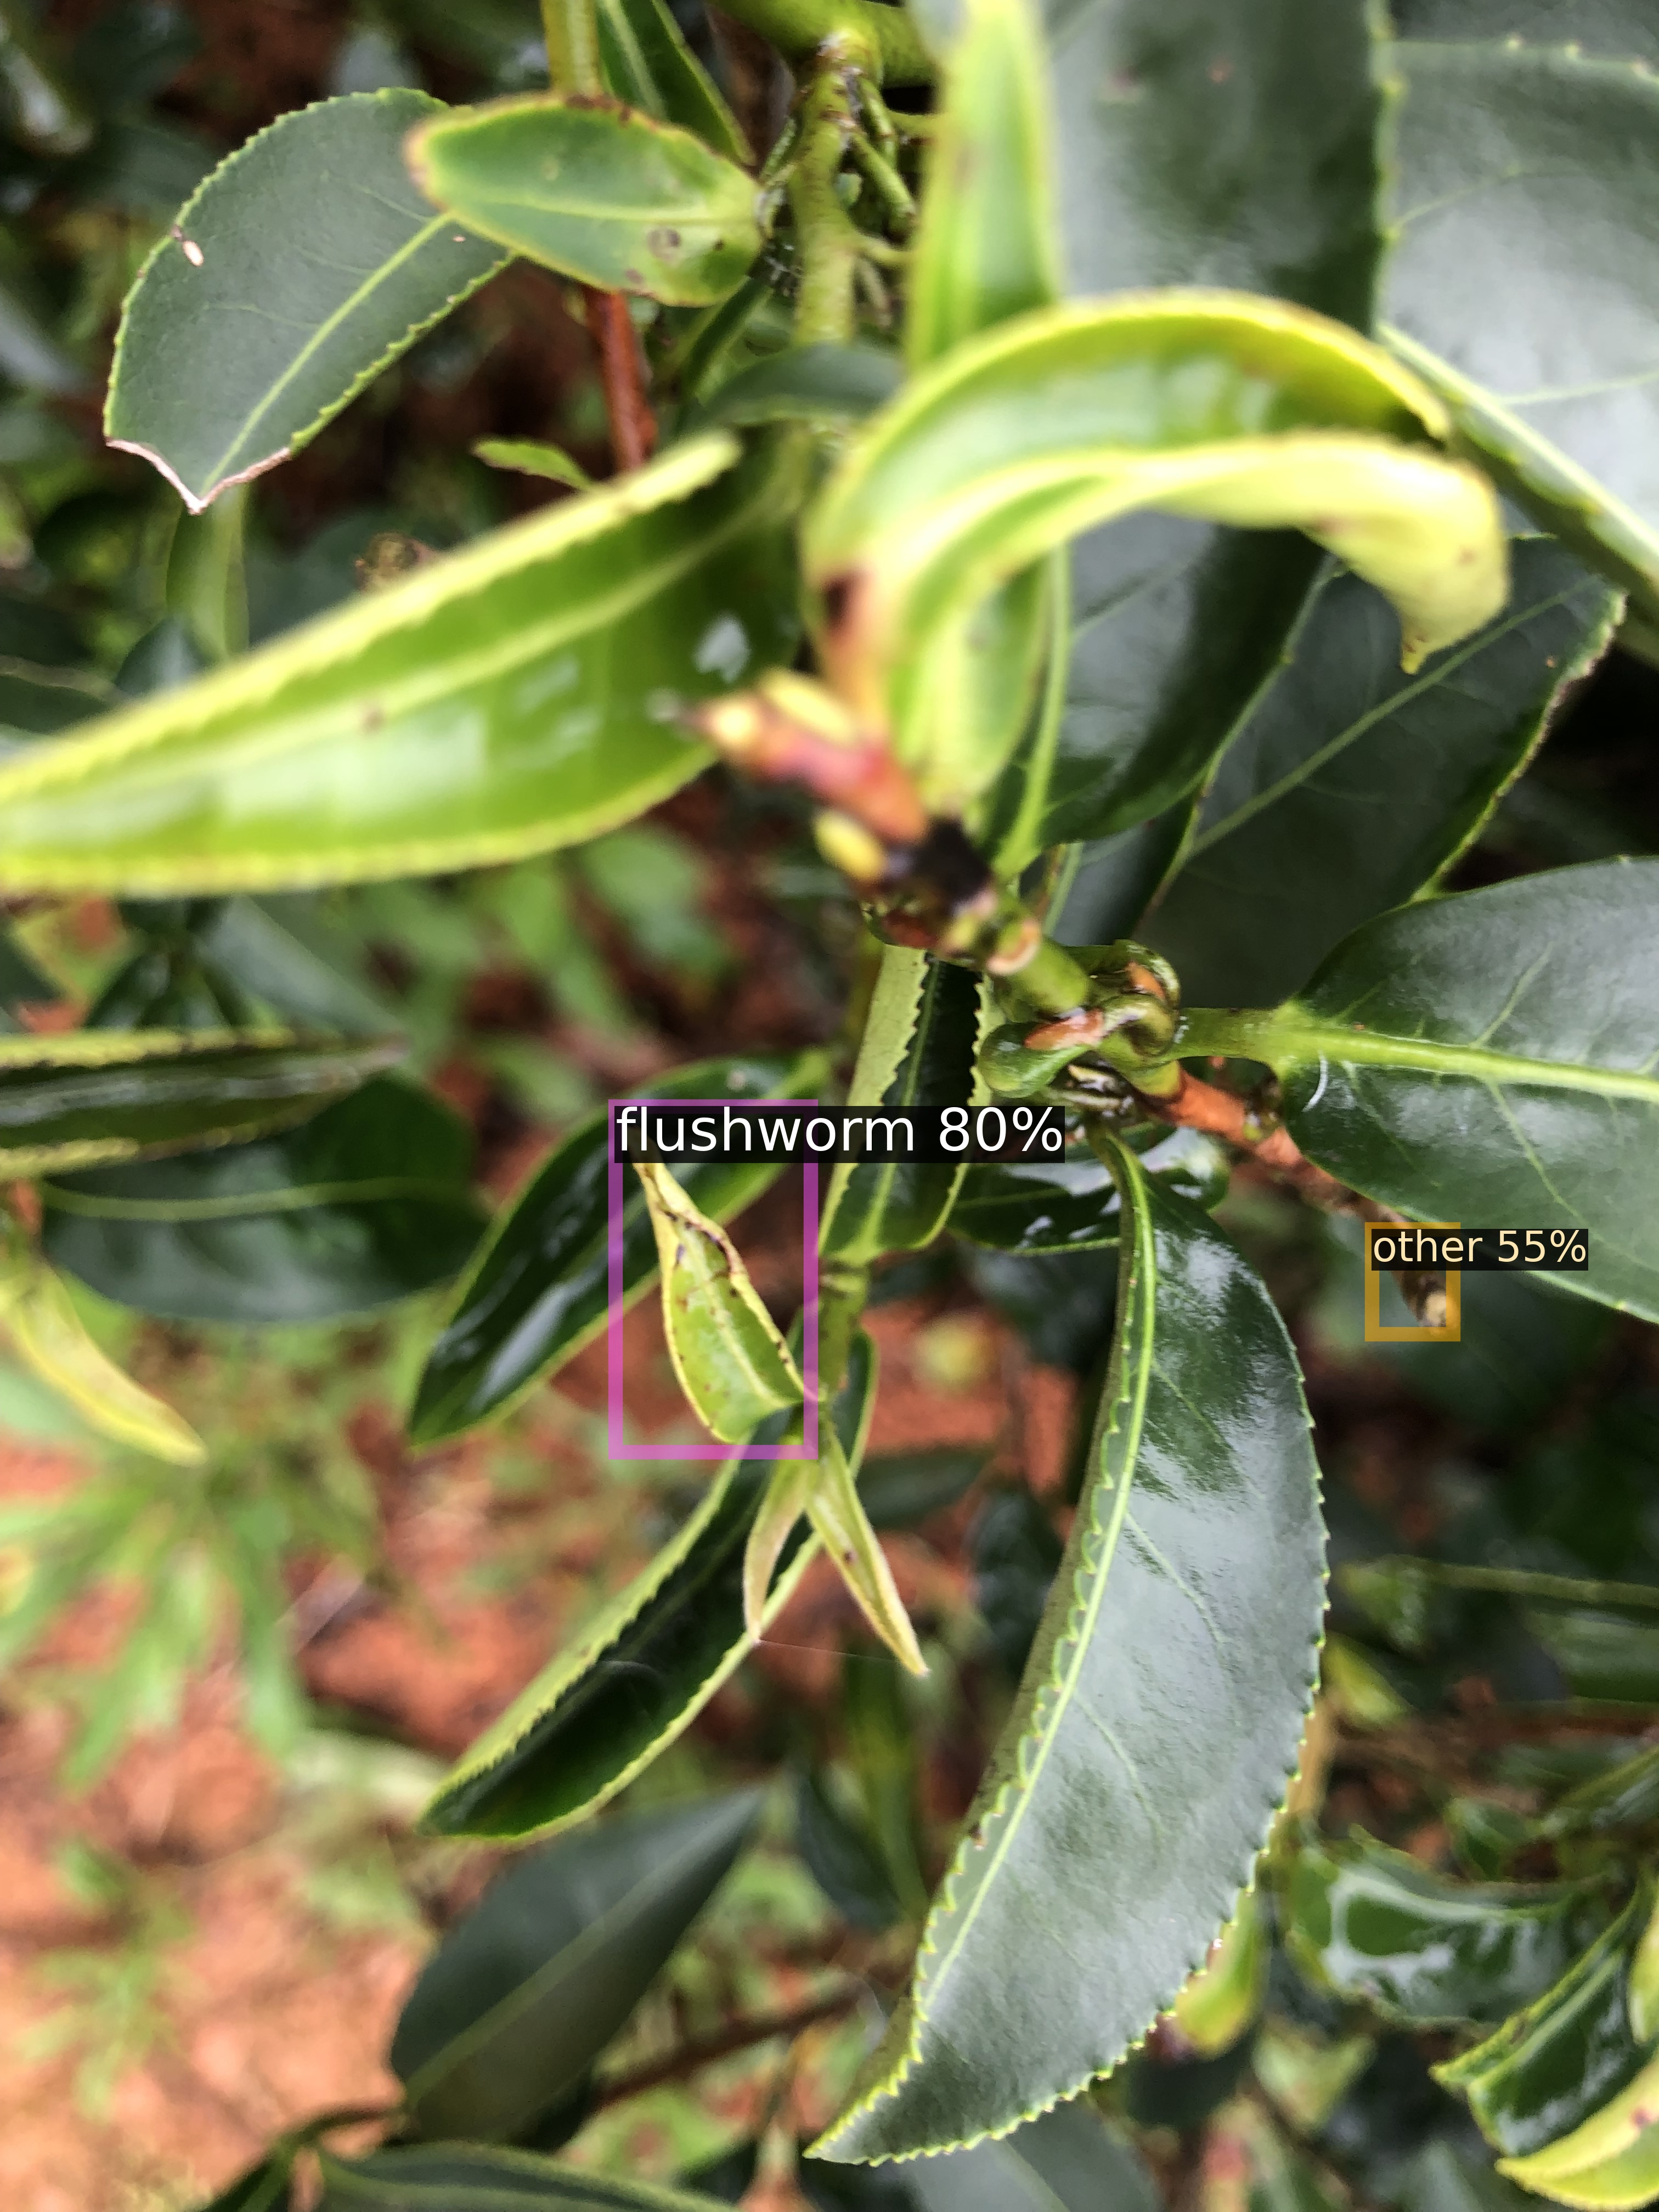flushworm: (615, 1106, 810, 1451)
other: (1371, 1230, 1453, 1334)
